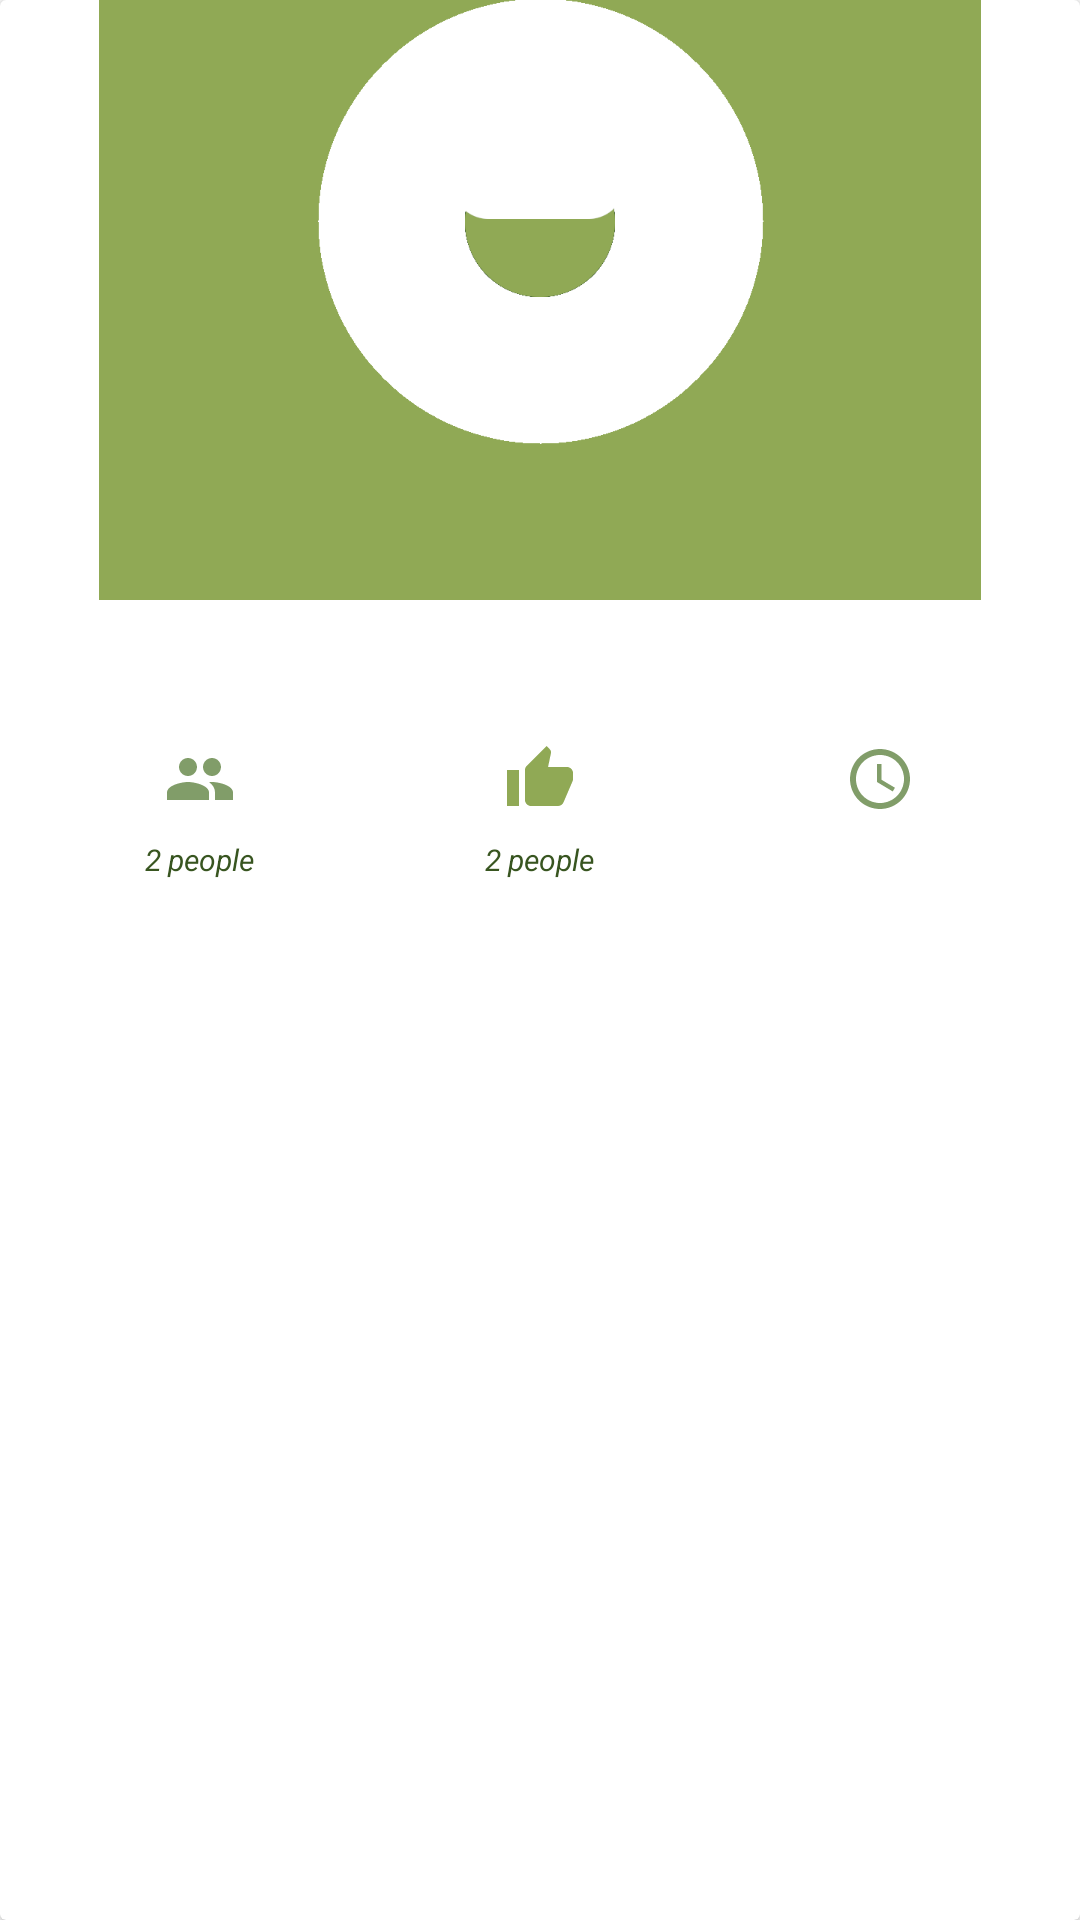

Icons on this 1080x1920 Android screen, each with the point to tap as (x=x, y=y):
like: (x=540, y=776)
servings: (x=200, y=779)
time: (x=880, y=779)
